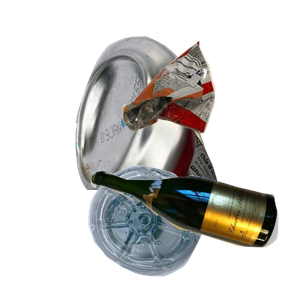glass: (88, 167, 300, 300)
metal: (73, 34, 285, 214)
plastic: (86, 163, 282, 300)
trash: (120, 38, 300, 164)
